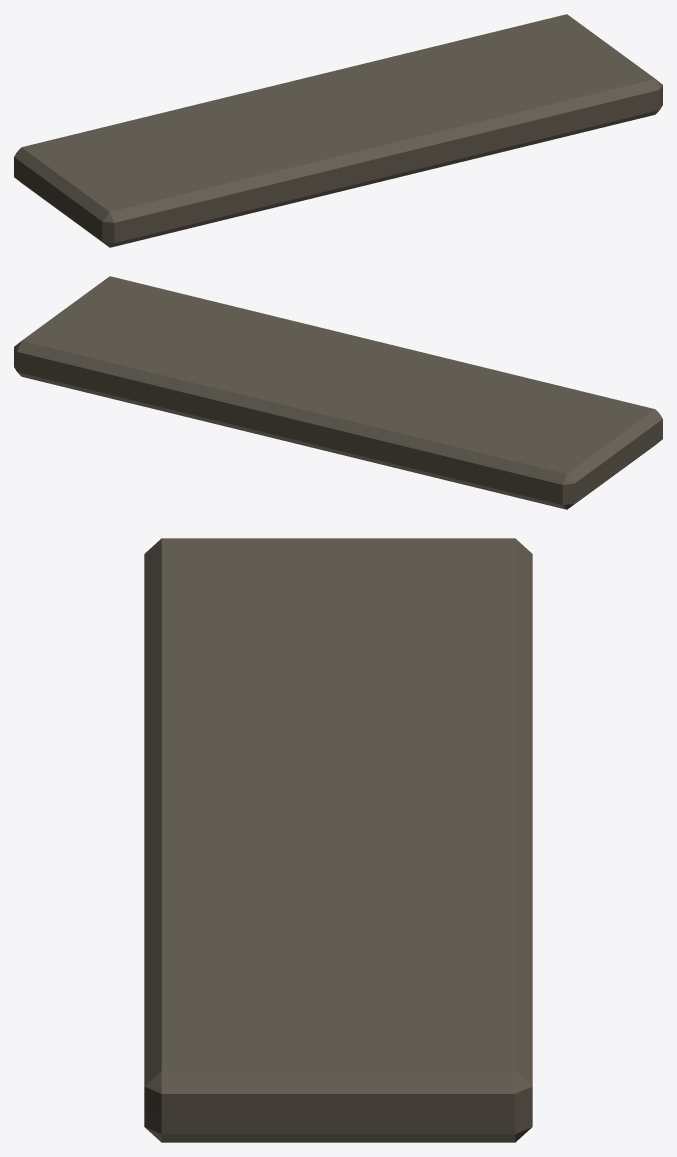
File: walk_board.glb
The picture shows the model from 3 angles, top to bottom: view 1: azimuth 30°, elevation 25°; view 2: azimuth 150°, elevation 25°; view 3: azimuth 270°, elevation 25°; orthographic projection. The views are drawn at different scales.
Visible parts, largest first — view 1: plank-001; view 2: plank-001; view 3: plank-001.
Boxes of the visible parts, x1,y1,x2,y2 form: plank-001: (14,14,662,247); plank-001: (14,276,662,509); plank-001: (144,538,532,1142).
Bounding box in the file's own units: 0.9 × 0.055 × 0.27.
